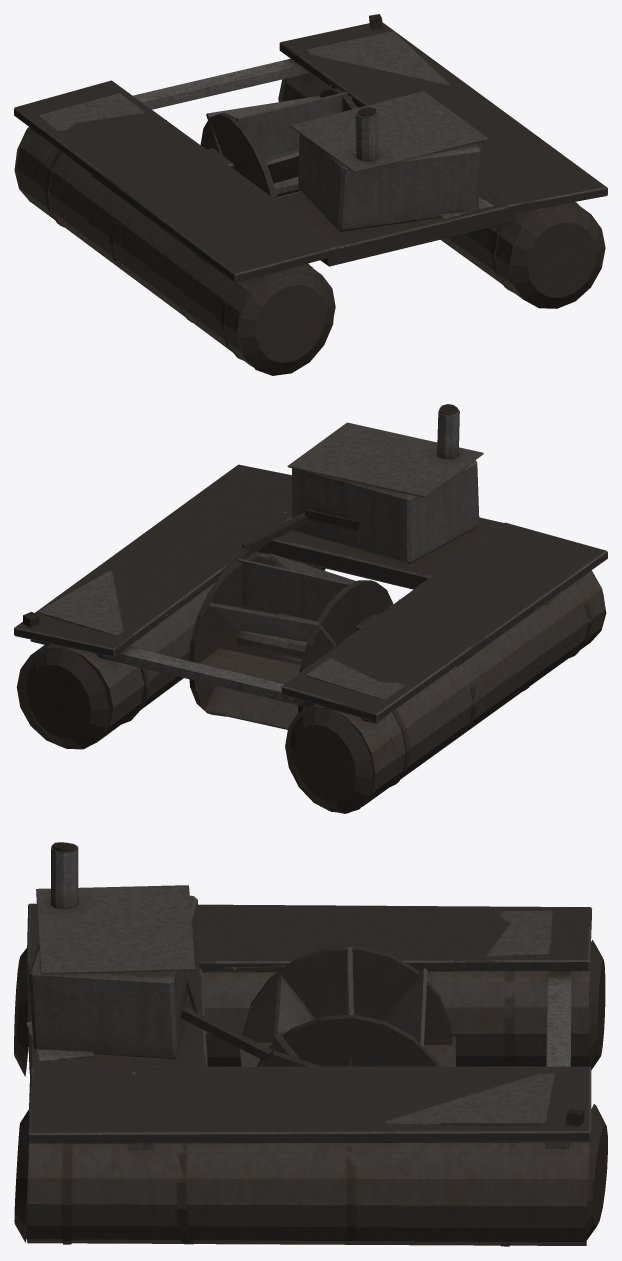
Rendered from chs_tidal_wreck.fbx.
3 views of the same model, one above another, from view 1: azimuth 30°, elevation 25°; view 2: azimuth 150°, elevation 25°; view 3: azimuth 270°, elevation 25° (orthographic). The views are drawn at different scales.
Parts seen in each view (by area): view 1: base_bar, rotor_bar; view 2: base_bar, rotor_bar; view 3: base_bar, rotor_bar.
Part boxes in pixels (<box>): base_bar: <box>14,14,607,375</box>; rotor_bar: <box>200,88,357,198</box>; base_bar: <box>14,404,607,813</box>; rotor_bar: <box>188,553,393,729</box>; base_bar: <box>14,842,607,1246</box>; rotor_bar: <box>239,946,455,1066</box>.
Size of the model in its own units: 1327 by 838 by 1472.
2 materials, 2 textured.
